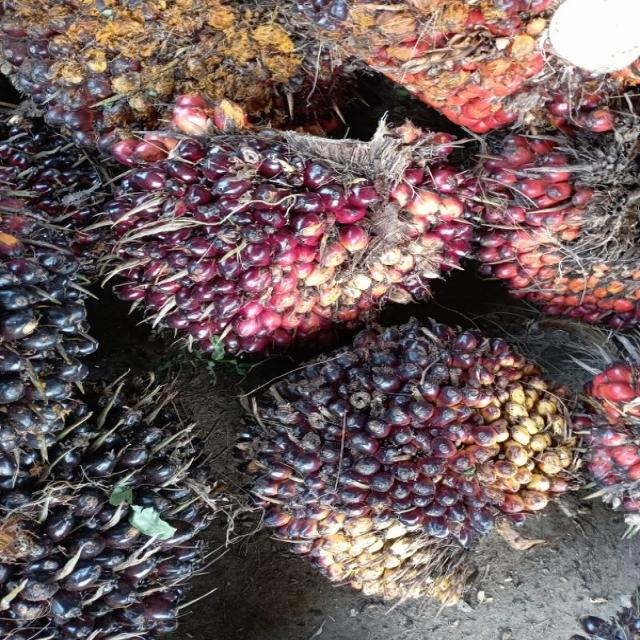fraksi 00: (239, 334, 581, 591), (0, 385, 224, 640)
fraksi 3: (85, 112, 474, 362), (464, 108, 640, 327)
fraksi 4: (338, 0, 640, 145)
